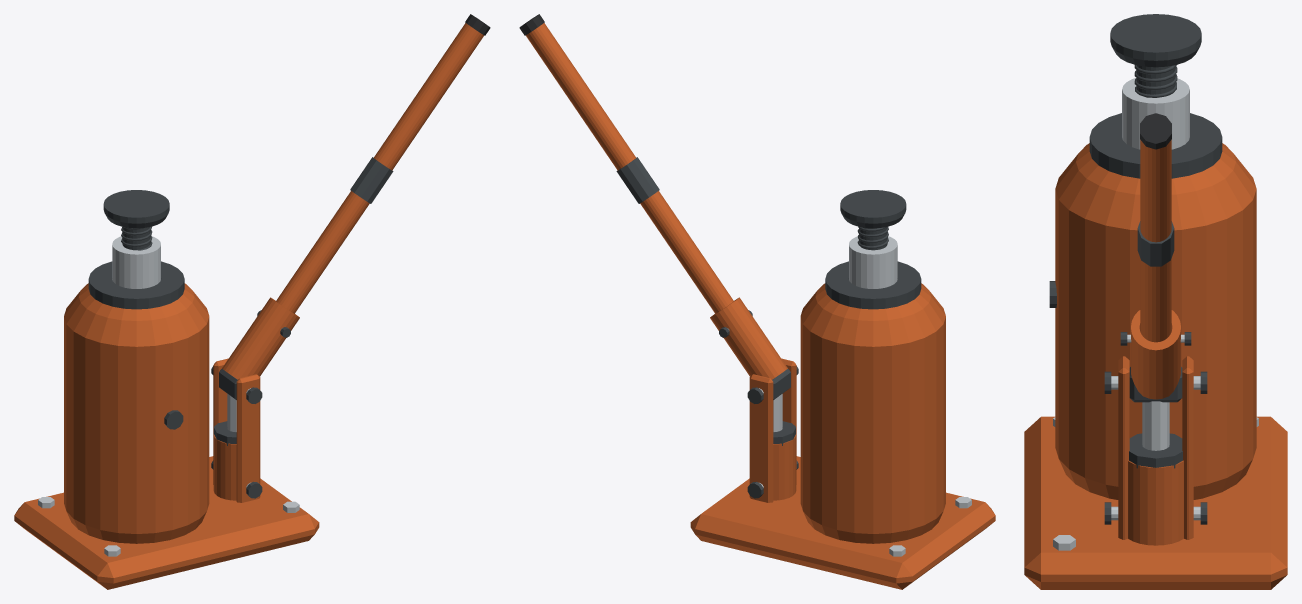
File: A-NEW-20261026-BOTTLE-JACK-001_LOD2_R3.fbx
The picture shows the model from 3 angles, left to right: view 1: azimuth 30°, elevation 25°; view 2: azimuth 150°, elevation 25°; view 3: azimuth 270°, elevation 25°; orthographic projection. The views are drawn at different scales.
Parts seen in each view (by area): view 1: closed oil reservoir, rounded load base, assembled tubular handle, open handle socket, ram retaining collar, pump pivot cheek, flat circular saddle, supported polished ram, pump cylinder, handle section coupling, pump pivot cheek.001; view 2: closed oil reservoir, rounded load base, assembled tubular handle, open handle socket, ram retaining collar, pump pivot cheek.001, flat circular saddle, supported polished ram, pump cylinder, handle section coupling, pump pivot cheek; view 3: closed oil reservoir, rounded load base, assembled tubular handle, pump cylinder, ram retaining collar, flat circular saddle, open handle socket, supported polished ram, pump pivot cheek, pump pivot cheek.001, pump plunger, pump top seal (+5 smaller).
Boxes of the visible parts, bbox=[...] form: closed oil reservoir: bbox=[64, 283, 209, 543]; rounded load base: bbox=[14, 456, 319, 589]; assembled tubular handle: bbox=[276, 23, 483, 313]; open handle socket: bbox=[222, 297, 299, 379]; ram retaining collar: bbox=[88, 261, 184, 309]; pump pivot cheek: bbox=[236, 374, 260, 502]; flat circular saddle: bbox=[103, 190, 169, 228]; supported polished ram: bbox=[112, 236, 160, 288]; pump cylinder: bbox=[213, 434, 236, 500]; handle section coupling: bbox=[350, 157, 393, 203]; pump pivot cheek.001: bbox=[213, 358, 228, 484]; closed oil reservoir: bbox=[800, 283, 945, 543]; rounded load base: bbox=[690, 456, 995, 589]; assembled tubular handle: bbox=[526, 23, 733, 313]; open handle socket: bbox=[710, 297, 787, 379]; ram retaining collar: bbox=[825, 261, 921, 309]; pump pivot cheek.001: bbox=[749, 374, 773, 502]; flat circular saddle: bbox=[840, 190, 906, 228]; supported polished ram: bbox=[849, 236, 897, 288]; pump cylinder: bbox=[773, 434, 796, 500]; handle section coupling: bbox=[616, 157, 659, 203]; pump pivot cheek: bbox=[781, 358, 796, 484]; closed oil reservoir: bbox=[1055, 143, 1256, 499]; rounded load base: bbox=[1024, 416, 1287, 589]; assembled tubular handle: bbox=[1140, 140, 1171, 342]; pump cylinder: bbox=[1128, 460, 1183, 545]; ram retaining collar: bbox=[1089, 113, 1222, 178]; flat circular saddle: bbox=[1110, 14, 1201, 67]; open handle socket: bbox=[1131, 310, 1180, 399]; supported polished ram: bbox=[1122, 78, 1189, 149]; pump pivot cheek: bbox=[1118, 356, 1129, 539]; pump pivot cheek.001: bbox=[1182, 356, 1193, 539]; pump plunger: bbox=[1142, 401, 1169, 450]; pump top seal: bbox=[1129, 433, 1182, 468].
Bounding box in the file's own units: 30.24 × 29.69 × 11.5.
